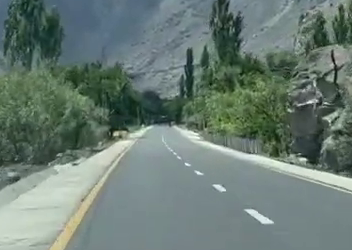left: (135, 138, 289, 237)
